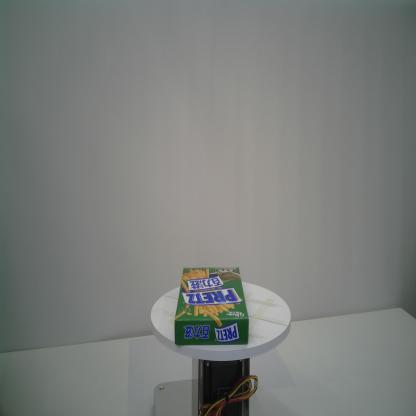Dessert: (174, 267, 249, 346)
